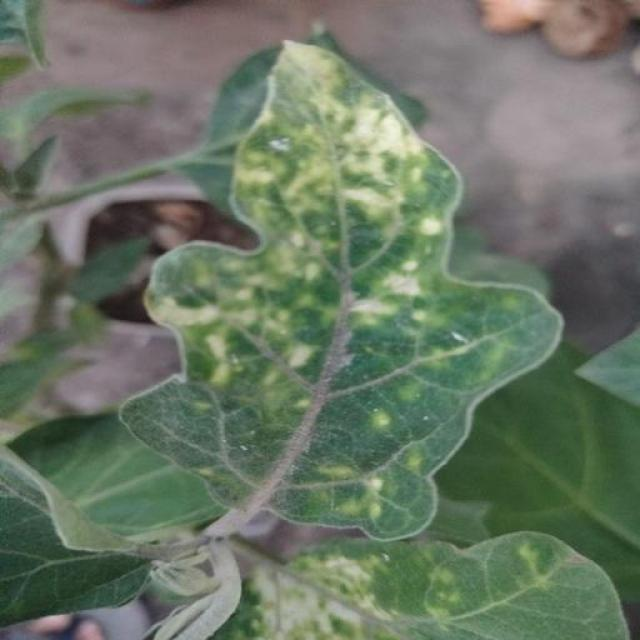leaf_spot: (261, 129, 347, 217), (299, 558, 383, 636), (350, 84, 420, 169), (402, 313, 482, 370), (285, 45, 338, 128), (328, 462, 393, 522), (231, 289, 297, 338), (358, 168, 410, 216), (341, 286, 392, 334), (280, 236, 322, 282), (160, 298, 219, 330), (196, 250, 249, 282), (380, 266, 422, 304), (438, 572, 467, 624), (206, 338, 236, 382), (518, 562, 558, 594), (287, 332, 317, 369), (396, 378, 428, 407), (374, 399, 397, 438), (430, 213, 450, 249), (402, 448, 424, 466)
